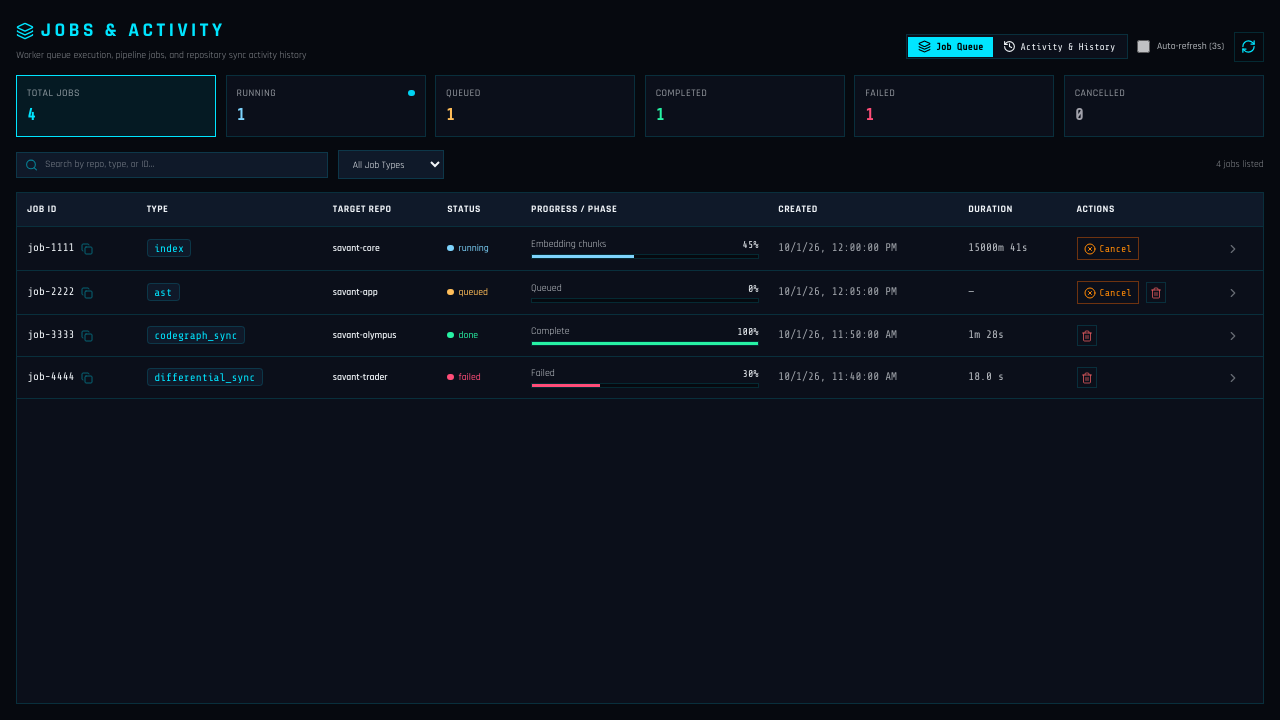
JobsView › opens job details drawer and displays metadata
Click the text "savant-olympus". click: (380, 336)
box: top-left (323, 315), bottom-right (437, 357)
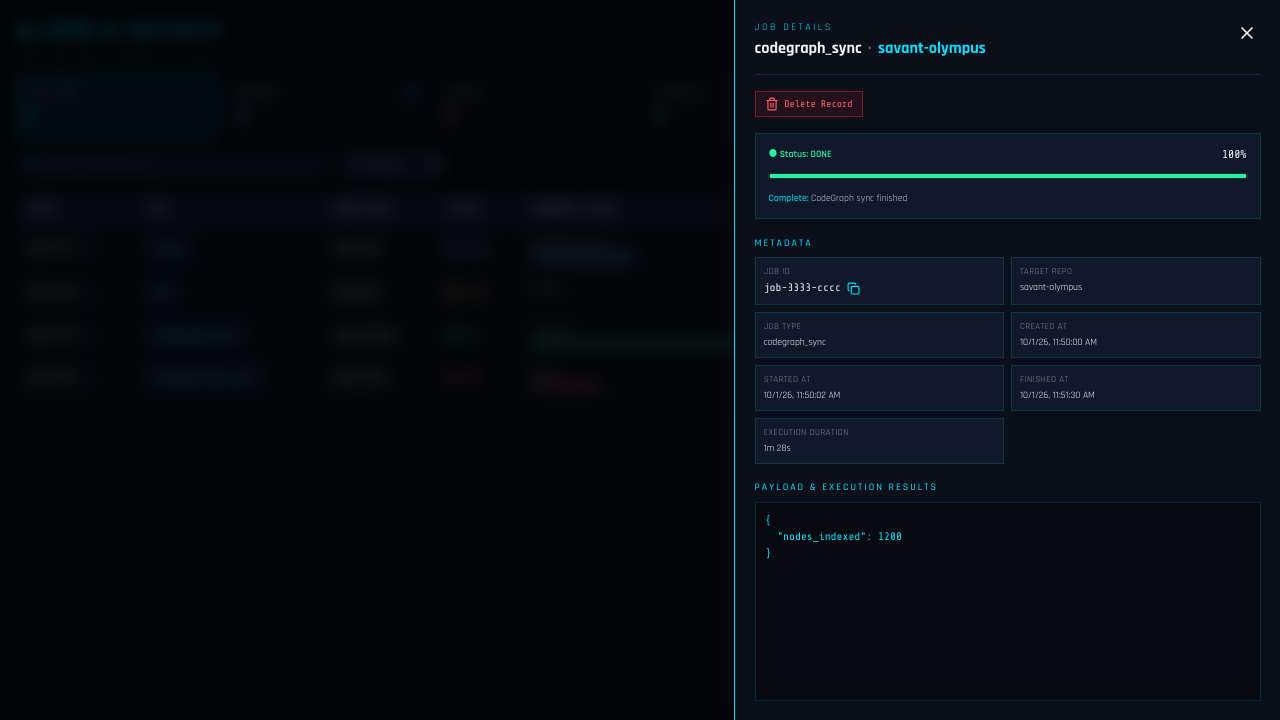
Expected: the dialog "Job Details" is shown
Expected: the text "{ \"nodes_indexed\": 1200 }" is shown, top-left (754, 502), bottom-right (1260, 700)
# Close drawer
Click the button named "Close job details". click: (1247, 33)
box: top-left (1234, 20), bottom-right (1260, 46)
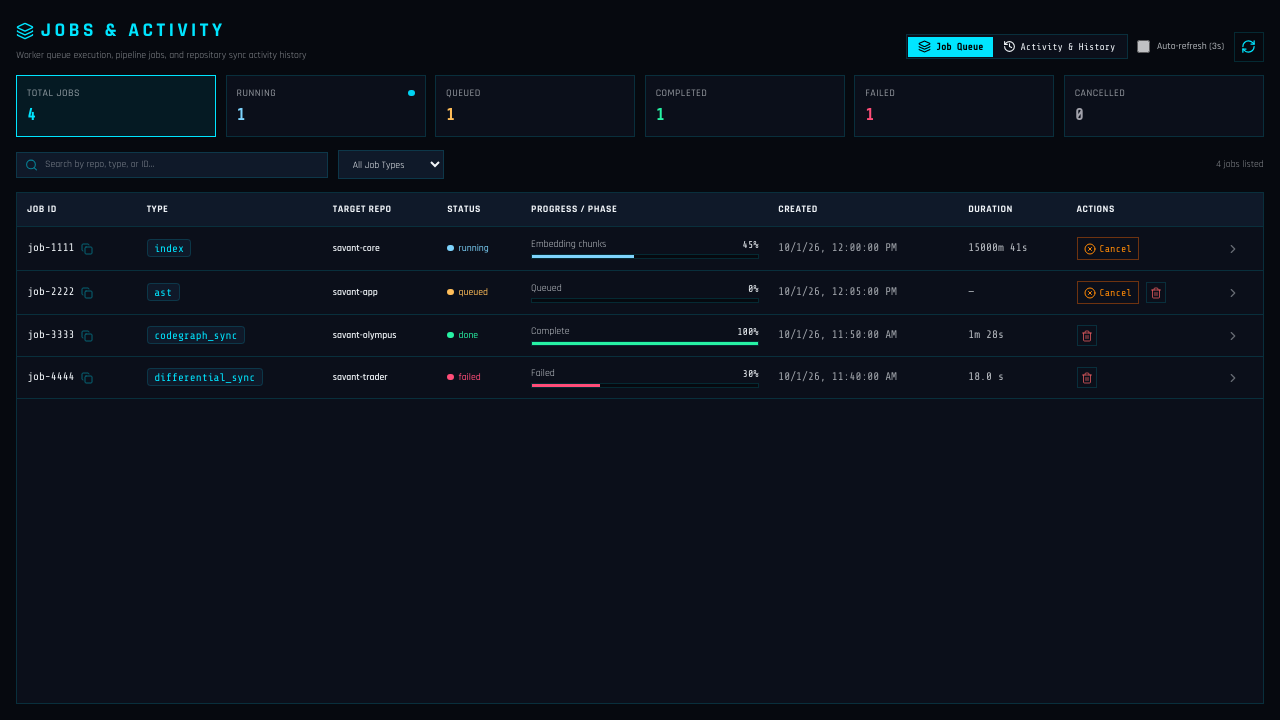
Expected: the text "Job Details" is gone
